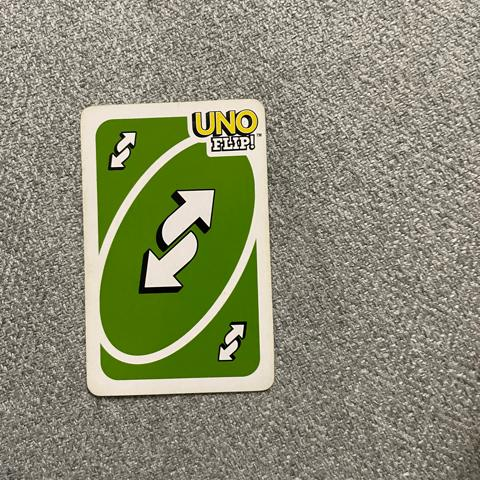lgreenrevers-20: (91, 114, 154, 180)
